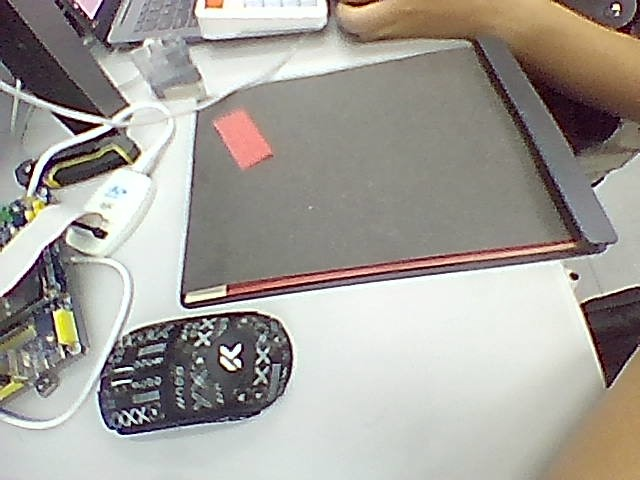card: (213, 109, 272, 169)
